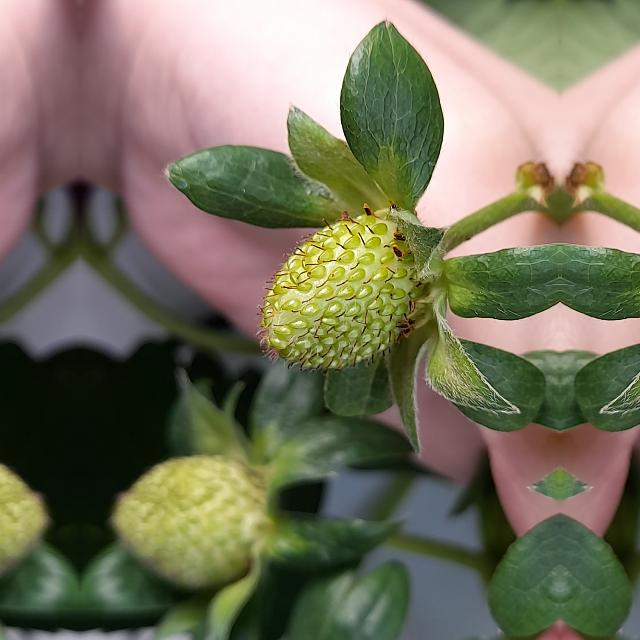Health_25: (254, 206, 423, 374)
